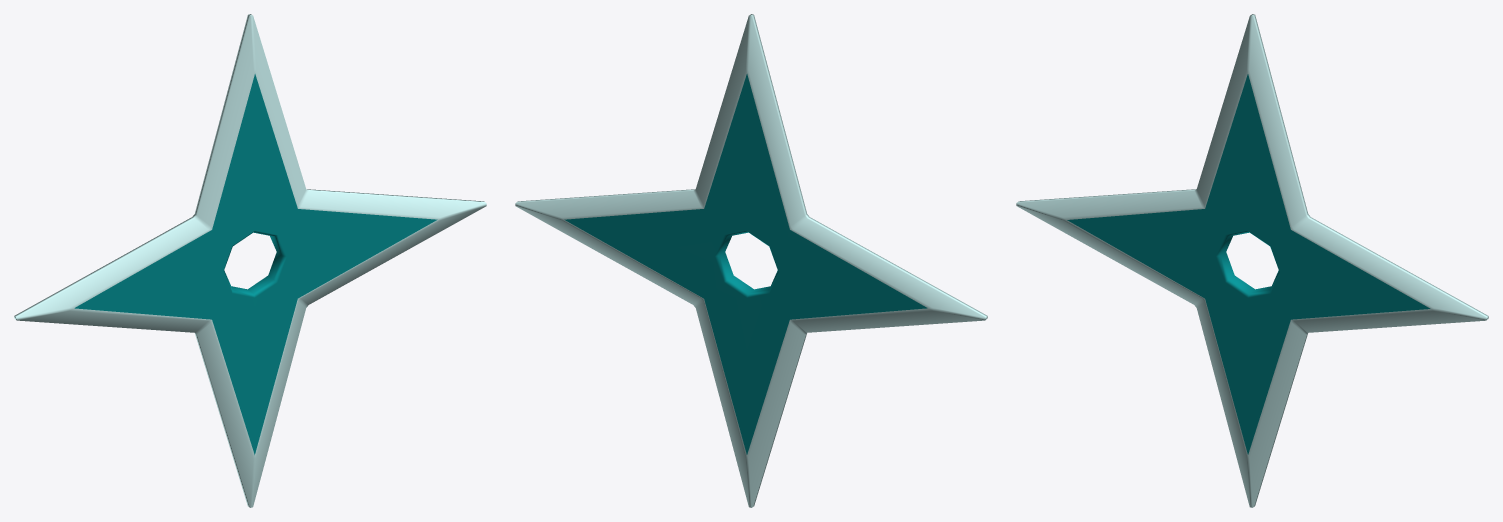
Rendered from shuriken_4.FBX.
The picture shows the model from 3 angles, left to right: view 1: azimuth 30°, elevation 25°; view 2: azimuth 150°, elevation 25°; view 3: azimuth 330°, elevation 25°; orthographic projection.
Parts seen in each view (by area): view 1: shuriken_4; view 2: shuriken_4; view 3: shuriken_4.
Part boxes in pixels (bbox=[...]): shuriken_4: bbox=[14, 14, 486, 507]; shuriken_4: bbox=[515, 14, 987, 507]; shuriken_4: bbox=[1016, 14, 1488, 507].
Bounding box in the file's own units: 476 × 476 × 15.98.
